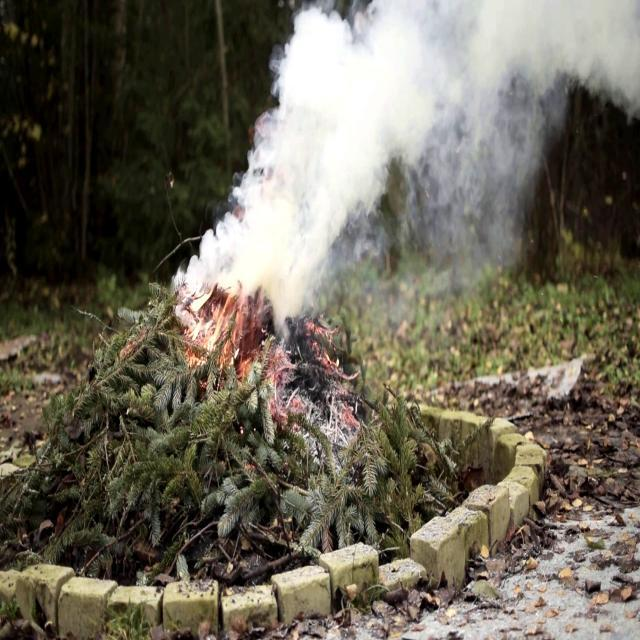Smoke: (180, 0, 607, 322)
